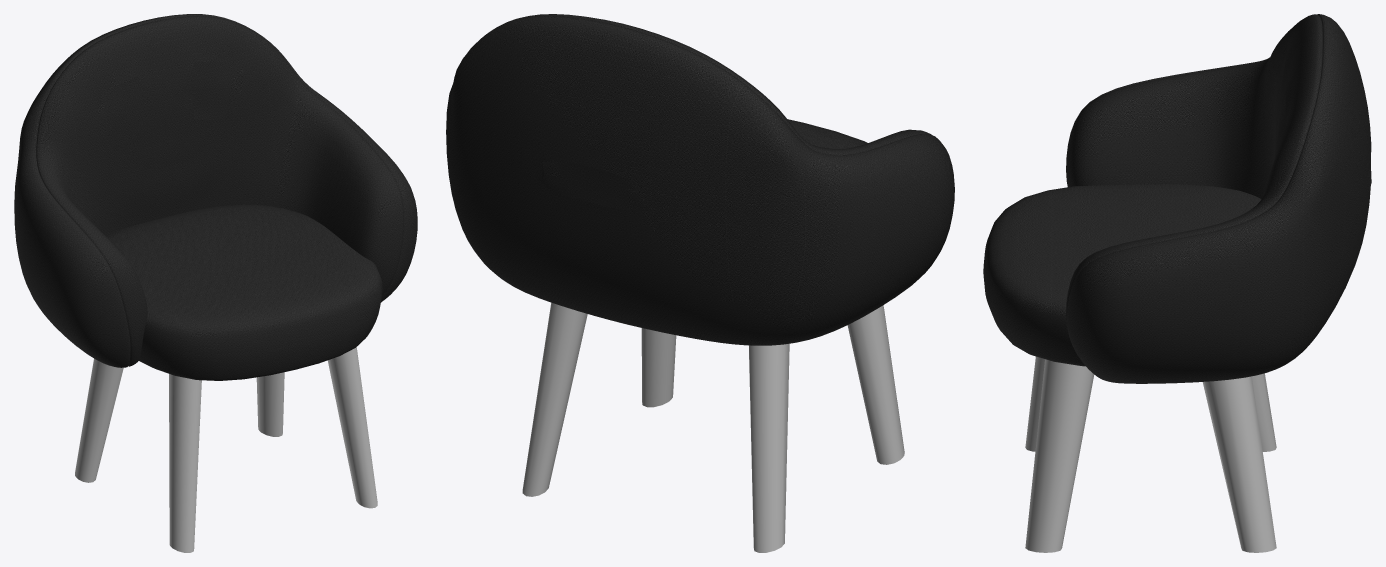
Rendered from Armchair.fbx.
3 renders of one model, left to right at view 1: azimuth 30°, elevation 25°; view 2: azimuth 150°, elevation 25°; view 3: azimuth 270°, elevation 25°, orthographic. The views are drawn at different scales.
Visible parts, largest first — view 1: Black chair; view 2: Black chair; view 3: Black chair.
Part boxes in pixels (bbox=[...]): Black chair: bbox=[14, 14, 417, 552]; Black chair: bbox=[446, 14, 954, 552]; Black chair: bbox=[983, 14, 1371, 552].
Bounding box in the file's own units: 79.48 × 90.25 × 69.26.
